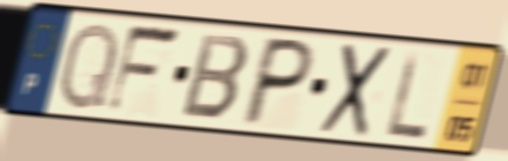B: (177, 30, 253, 124)
F: (102, 21, 185, 118)
L: (384, 47, 431, 142)
P: (236, 33, 320, 129)
Q: (56, 18, 123, 113)
X: (315, 40, 396, 141)
